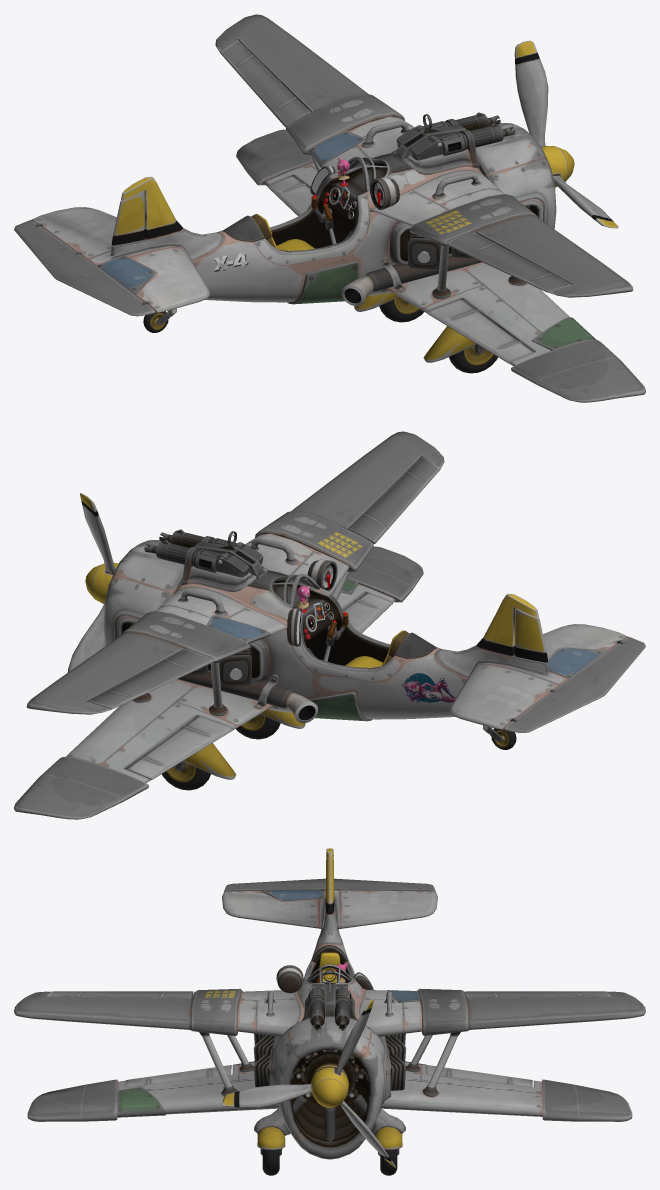
3 renders of one model, top to bottom at view 1: azimuth 30°, elevation 25°; view 2: azimuth 150°, elevation 25°; view 3: azimuth 270°, elevation 25°, orthographic. The views are drawn at different scales.
Visible parts, largest first — view 1: Object_7; view 2: Object_7; view 3: Object_7.
Part boxes in pixels (x1,y1,x2,y2): Object_7: (14,14,645,402); Object_7: (14,431,645,819); Object_7: (14,848,645,1175).
Size of the model in its own units: 0.7958 by 0.3827 by 1.
3 materials, 2 textured.
